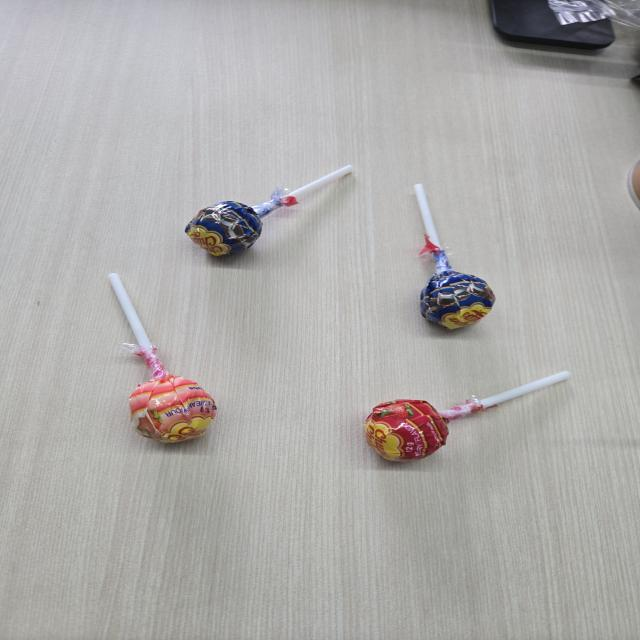lollipop: (100, 270, 222, 450), (365, 369, 574, 472), (182, 160, 360, 268), (409, 179, 500, 337)
